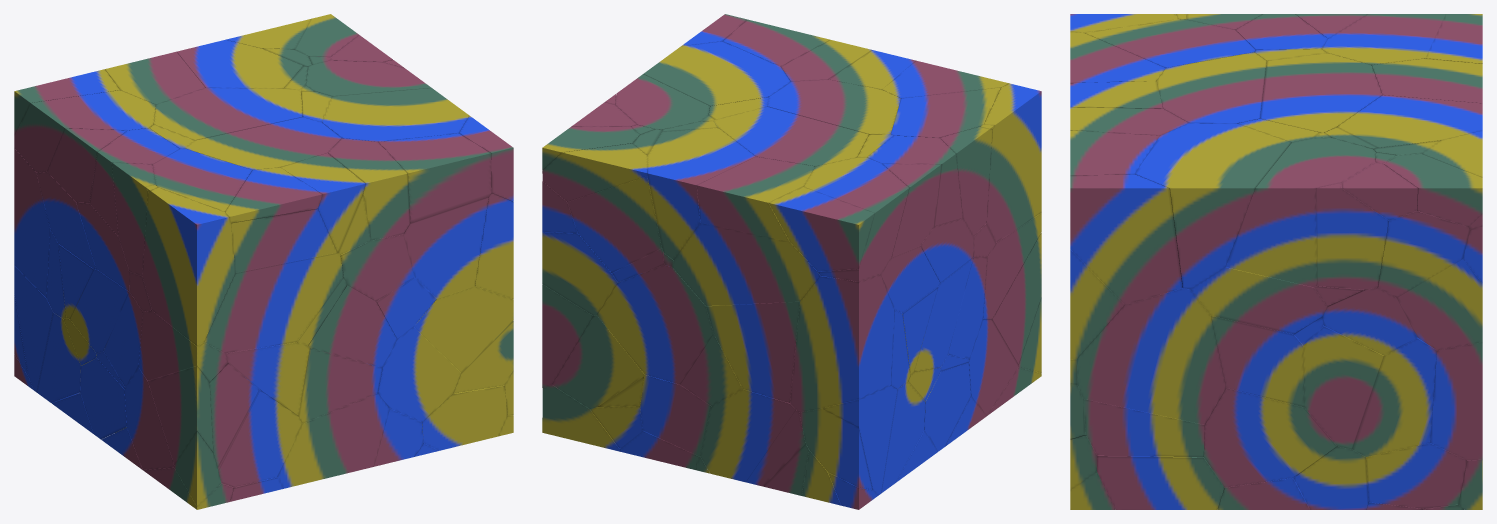
File: FracturedCube.glb
3 views of the same model, side by side, from view 1: azimuth 30°, elevation 25°; view 2: azimuth 150°, elevation 25°; view 3: azimuth 270°, elevation 25° (orthographic). The views are drawn at different scales.
Visible parts, largest first — view 1: Grid_cell.051, Grid_cell.082, Grid_cell.065, Grid_cell.122, Grid_cell.040, Grid_cell.027, Grid_cell.127, Grid_cell.014, Grid_cell.034, Grid_cell.133, Grid_cell.033, Grid_cell.057 (+49 smaller); view 2: Grid_cell.099, Grid_cell.018, Grid_cell.075, Grid_cell.051, Grid_cell.019, Grid_cell.052, Grid_cell.027, Grid_cell.093, Grid_cell.040, Grid_cell.068, Grid_cell.020, Grid_cell.127 (+50 smaller); view 3: Grid_cell.012, Grid_cell.040, Grid_cell.098, Grid_cell.091, Grid_cell.118, Grid_cell.127, Grid_cell.072, Grid_cell.056, Grid_cell.033, Grid_cell.096, Grid_cell.076, Grid_cell.023 (+35 smaller).
Part boxes in pixels (x1=…): Grid_cell.051: x1=142, y1=187, x2=235, y2=346; Grid_cell.082: x1=204, y1=252, x2=343, y2=353; Grid_cell.065: x1=378, y1=133, x2=491, y2=223; Grid_cell.122: x1=278, y1=393, x2=389, y2=488; Grid_cell.040: x1=322, y1=87, x2=469, y2=141; Grid_cell.027: x1=14, y1=90, x2=155, y2=172; Grid_cell.127: x1=154, y1=88, x2=302, y2=140; Grid_cell.014: x1=403, y1=197, x2=488, y2=298; Grid_cell.034: x1=414, y1=286, x2=513, y2=372; Grid_cell.133: x1=378, y1=312, x2=461, y2=422; Grid_cell.033: x1=185, y1=117, x2=341, y2=170; Grid_cell.057: x1=218, y1=390, x2=302, y2=487; Grid_cell.099: x1=790, y1=274, x2=894, y2=412; Grid_cell.018: x1=597, y1=265, x2=713, y2=384; Grid_cell.075: x1=672, y1=223, x2=819, y2=305; Grid_cell.051: x1=984, y1=83, x2=1041, y2=241; Grid_cell.019: x1=647, y1=128, x2=755, y2=259; Grid_cell.052: x1=706, y1=301, x2=799, y2=402; Grid_cell.027: x1=804, y1=157, x2=909, y2=281; Grid_cell.093: x1=696, y1=156, x2=815, y2=242; Grid_cell.040: x1=643, y1=41, x2=790, y2=106; Grid_cell.068: x1=769, y1=187, x2=874, y2=271; Grid_cell.020: x1=567, y1=176, x2=661, y2=272; Grid_cell.127: x1=714, y1=106, x2=868, y2=166; Grid_cell.012: x1=1077, y1=288, x2=1225, y2=424; Grid_cell.040: x1=1135, y1=123, x2=1291, y2=289; Grid_cell.098: x1=1070, y1=174, x2=1182, y2=304; Grid_cell.091: x1=1225, y1=138, x2=1375, y2=287; Grid_cell.118: x1=1203, y1=388, x2=1337, y2=487; Grid_cell.127: x1=1260, y1=53, x2=1382, y2=132; Grid_cell.072: x1=1352, y1=338, x2=1436, y2=456; Grid_cell.056: x1=1303, y1=325, x2=1383, y2=449; Grid_cell.033: x1=1156, y1=52, x2=1266, y2=123; Grid_cell.096: x1=1316, y1=182, x2=1388, y2=289; Grid_cell.076: x1=1096, y1=455, x2=1224, y2=509; Grid_cell.023: x1=1211, y1=316, x2=1304, y2=407.
Bounding box in the file's own units: 3 × 2.58 × 3.
1 material, 1 textured.
